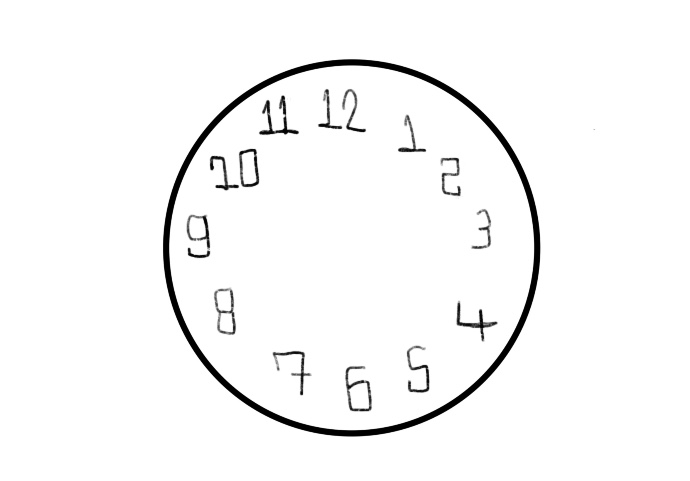eight: (210, 282, 241, 338)
eleven: (257, 93, 304, 139)
five: (404, 339, 436, 397)
four: (453, 296, 498, 347)
nine: (183, 212, 215, 261)
one: (397, 110, 429, 156)
seven: (269, 343, 314, 397)
six: (343, 358, 376, 417)
ten: (206, 148, 262, 191)
three: (471, 207, 494, 252)
twelve: (318, 84, 368, 136)
two: (439, 151, 466, 198)
